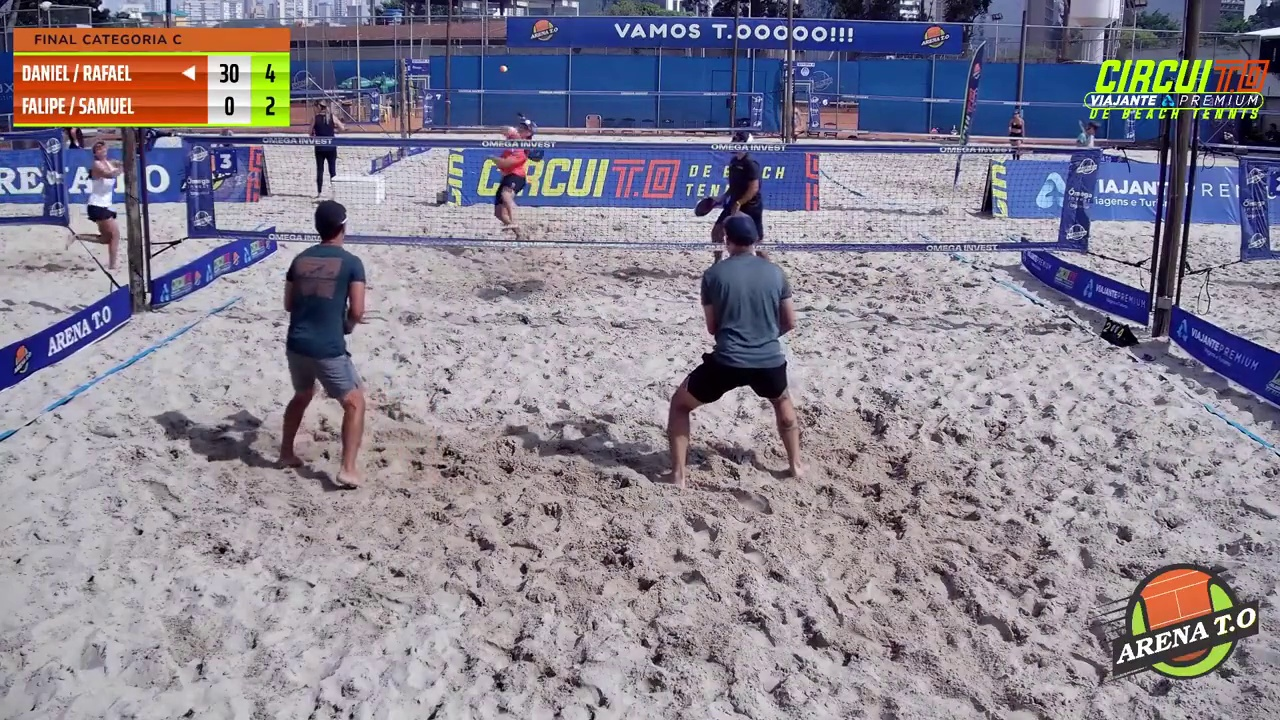court_line: (545, 0, 666, 397)
